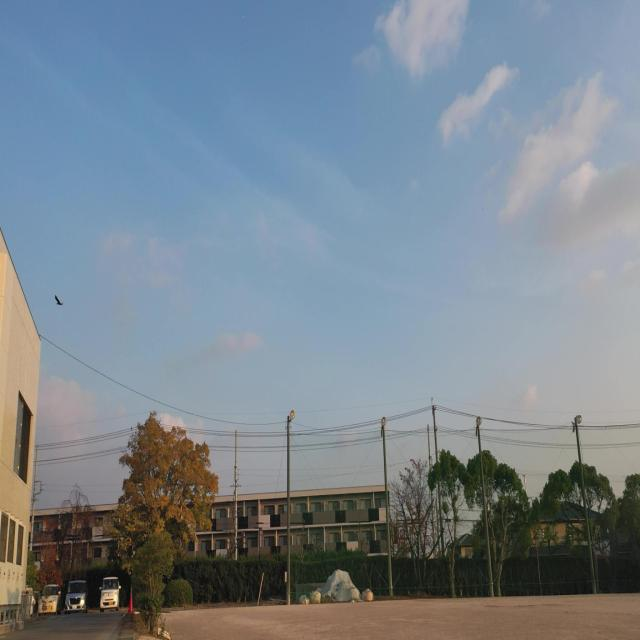Birds: (47, 273, 70, 318)
